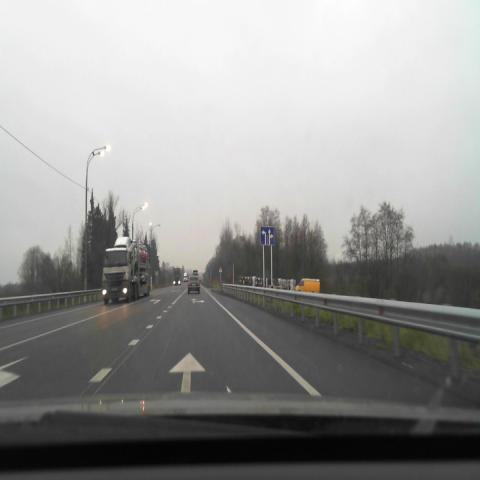5_15_2_2: (260, 226, 275, 245)
